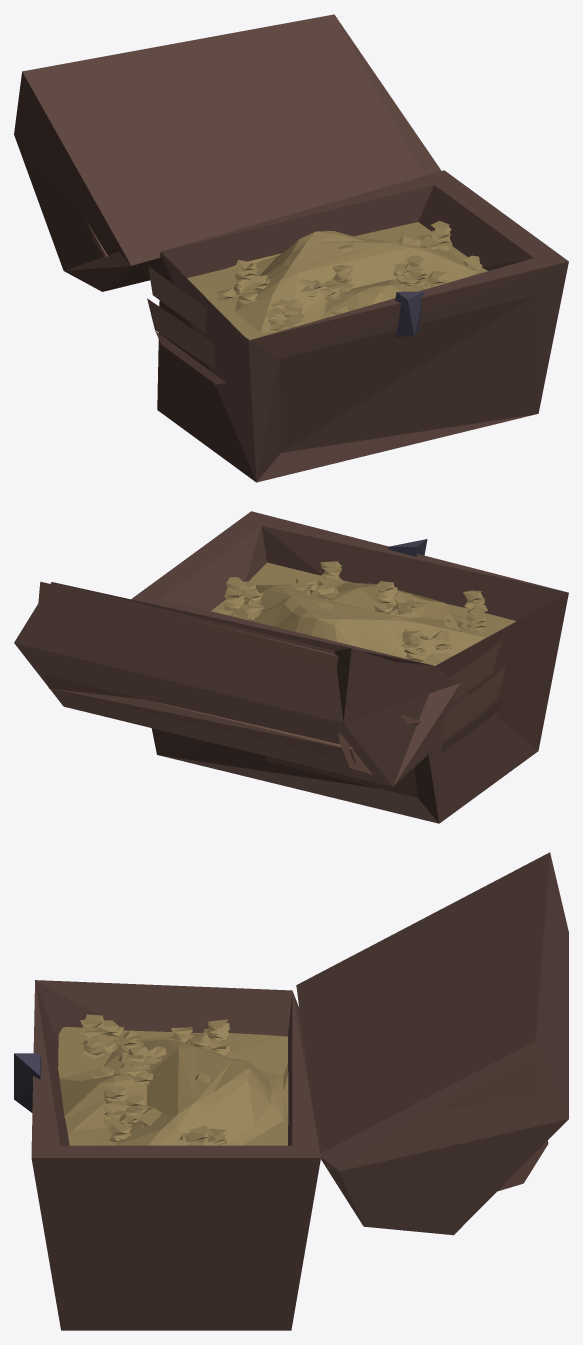
The model's file is D_Chest_Gold.glb.
3 views of the same model, one above another, from view 1: azimuth 30°, elevation 25°; view 2: azimuth 150°, elevation 25°; view 3: azimuth 270°, elevation 25° (orthographic). The views are drawn at different scales.
Visible parts, largest first — view 1: Chest_Base, Chest_Top; view 2: Chest_Base, Chest_Top; view 3: Chest_Base, Chest_Top.
Boxes of the visible parts, x1,y1,x2,y2 form: Chest_Base: [147, 170, 568, 482]; Chest_Top: [14, 14, 441, 291]; Chest_Base: [131, 511, 568, 823]; Chest_Top: [14, 581, 460, 786]; Chest_Base: [14, 980, 320, 1330]; Chest_Top: [296, 852, 568, 1235].
Size of the model in its own units: 1.18 by 0.8995 by 1.48.
